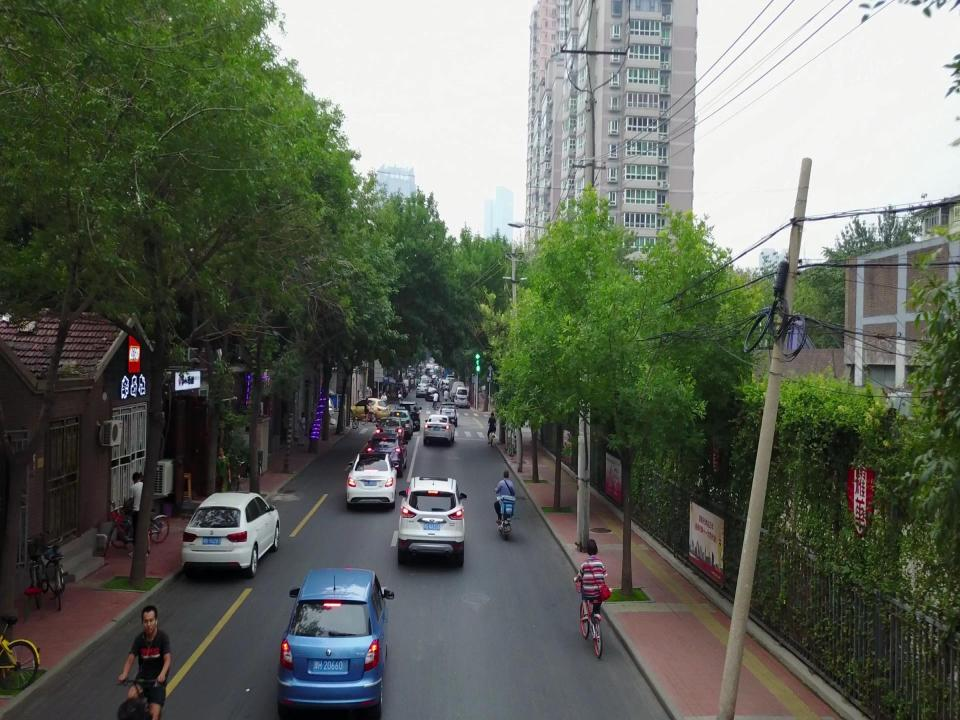car: (275, 566, 397, 720), (181, 491, 280, 579), (397, 476, 468, 566), (342, 450, 400, 513), (366, 432, 407, 480), (423, 414, 455, 447)
